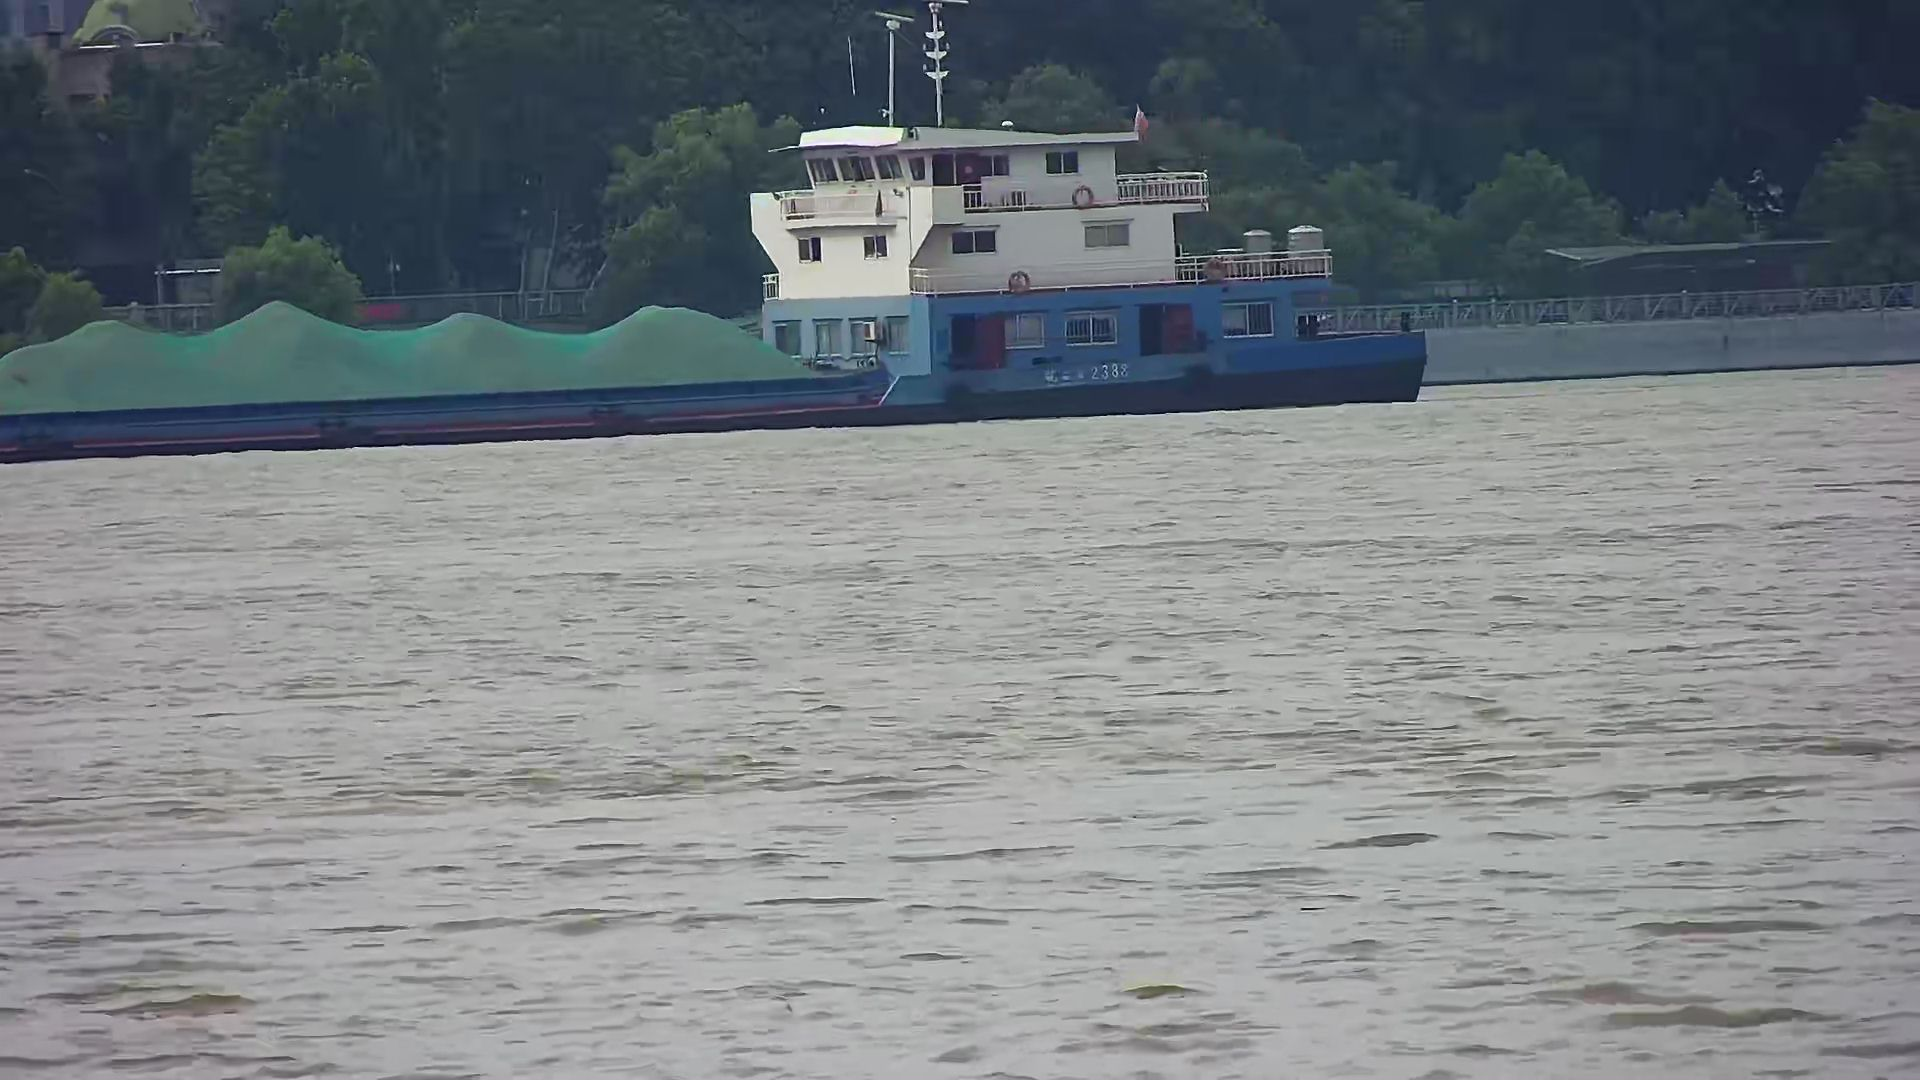ship: (1, 66, 1424, 446)
